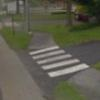crosswalks: (28, 45, 92, 79)
